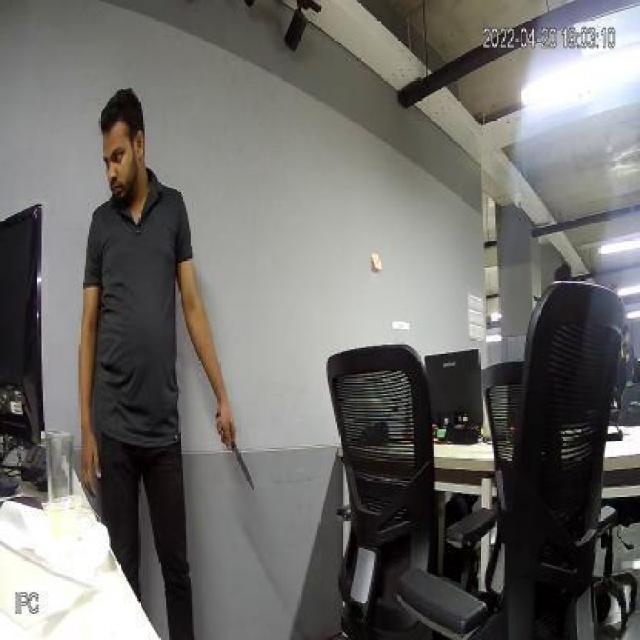-: (229, 432, 257, 494)
